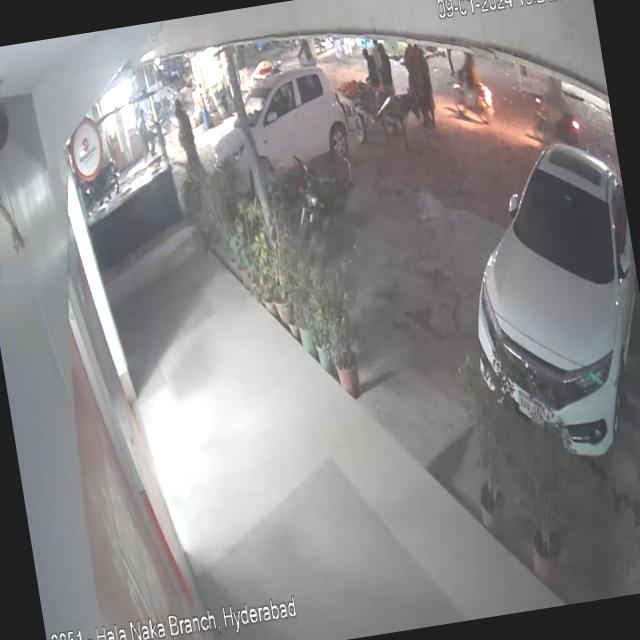Car: (439, 90, 640, 485), (180, 49, 357, 190)
Motorcycle: (286, 137, 364, 250)
